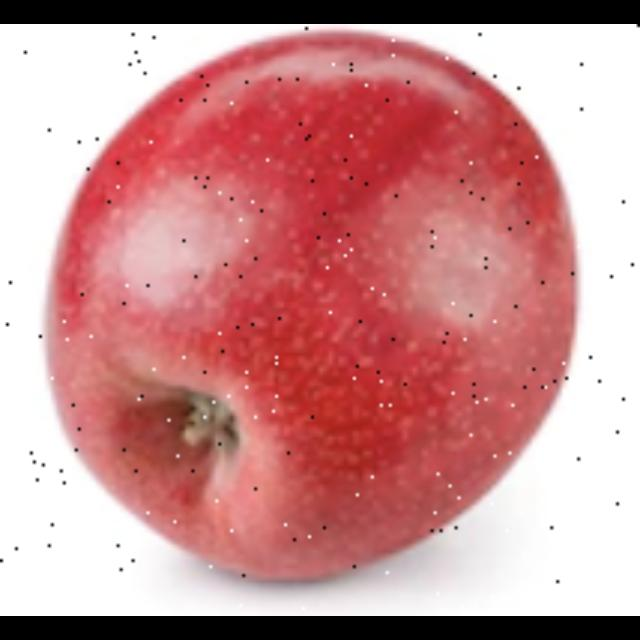Apel Segar: (27, 30, 589, 592)
